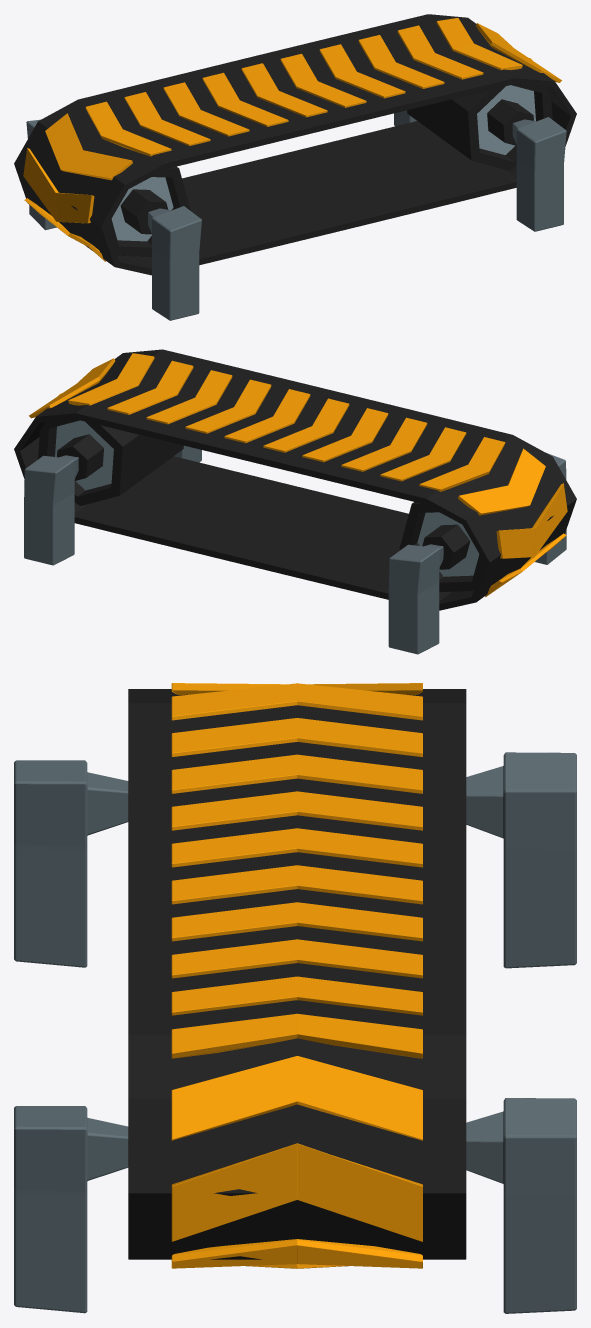
Rendered from machine_conveyor.fbx.
3 views of the same model, one above another, from view 1: azimuth 30°, elevation 25°; view 2: azimuth 150°, elevation 25°; view 3: azimuth 270°, elevation 25° (orthographic). The views are drawn at different scales.
Visible parts, largest first — view 1: Plane.001; view 2: Plane.001; view 3: Plane.001.
Boxes of the visible parts, x1,y1,x2,y2 form: Plane.001: (14, 14, 576, 320); Plane.001: (14, 349, 576, 654); Plane.001: (14, 683, 576, 1313).
Bounding box in the file's own units: 2.52 × 0.6766 × 1.32.
